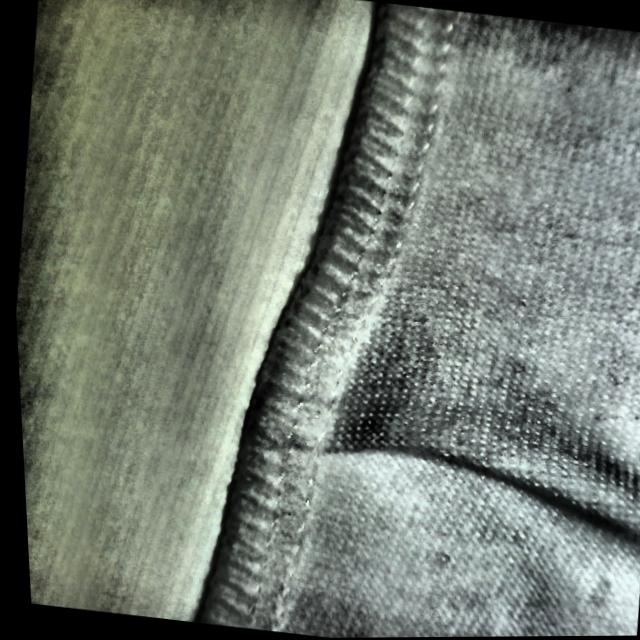seam: (218, 342, 558, 535)
